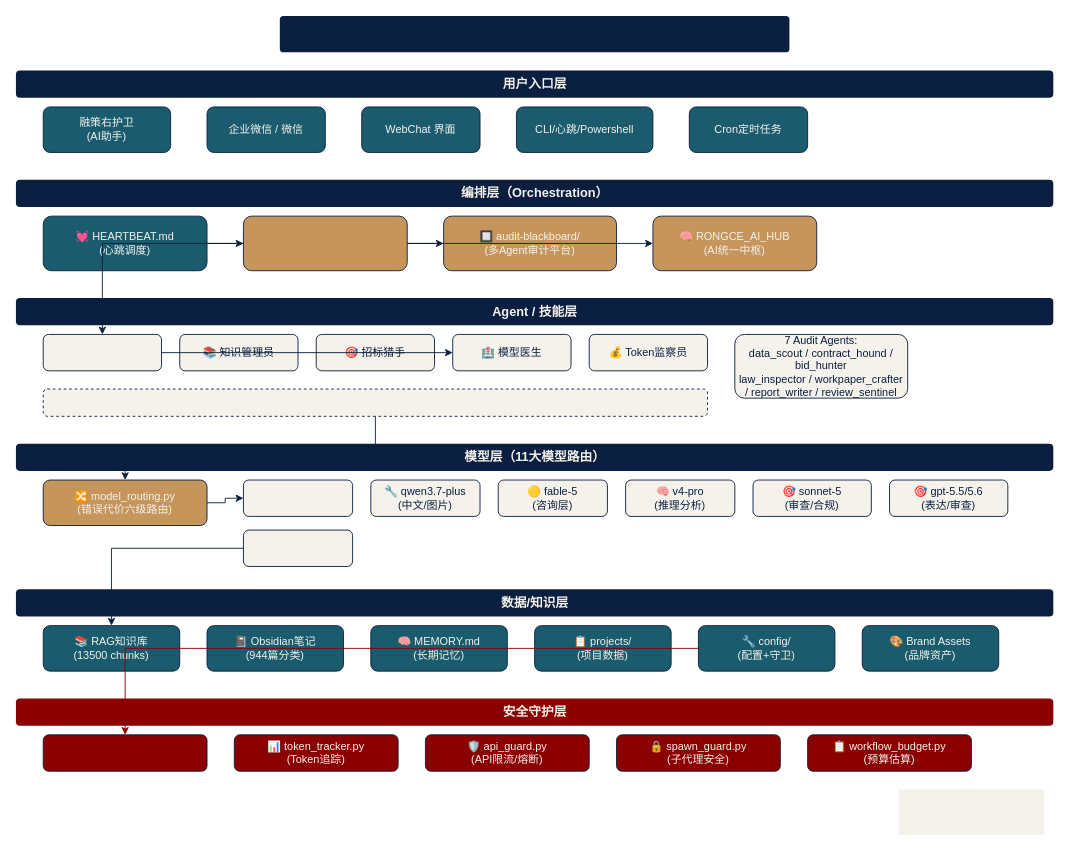
This 1087x850 diagram has some shape labels left out. Here are the shapes that lost their labels. From the top down, the centre of each, then its label:
the point at 534,33: 融策技术体系架构图 — 2026-07-11
the point at 325,243: 🏭 ai-workflow/ (AI自动化引擎)
the point at 102,352: 📡 数据侦察兵
the point at 375,402: 57 个技能 (SKILL.md) (30核心+27扩展)
the point at 298,497: 🔧 v4-flash (免费执行)
the point at 298,547: 🔬 opus-4-8 (致命终审)
the point at 124,752: 💰 cost_guard.py (费用守卫/自动熔断)
the point at 971,811: 图例: 🟢 已运行 🟡 已部署未运行 🔴 待修复
